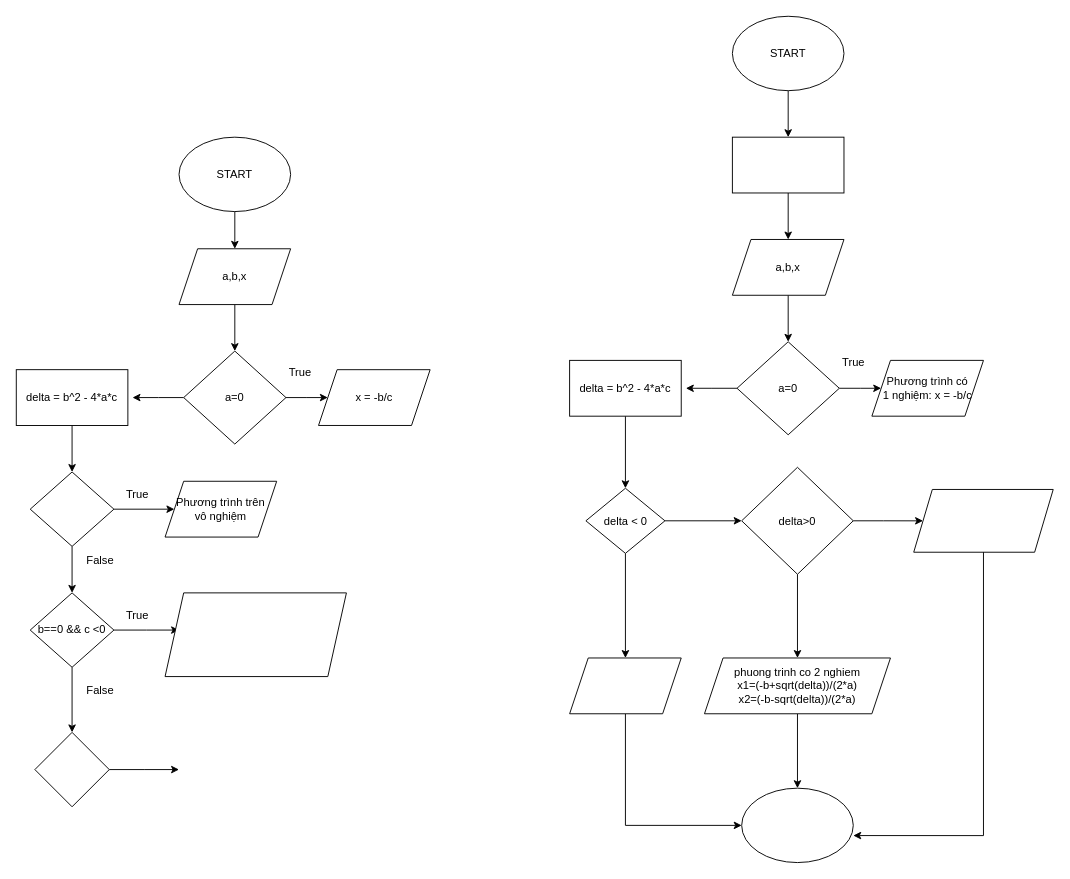
This 1070x879 diagram has some shape labels left out. The centre of each missing label's shape, as x and y in pixels:
"b != 0" belongs at (71,769).
"b==0 && c >0" belongs at (71,508).
"END" belongs at (797,825).
"phuong trinh co 1 nghiem x1=x2=-b/(2*a)" belongs at (983,520).
"Phuong trinh vo nghiem" belongs at (625,685).
"Phương trình có 2 nghiệm phân biệt là: cộng trừ căn bậc 2 ( c/a)" belongs at (255,634).
"x1,x2" belongs at (787,164).
